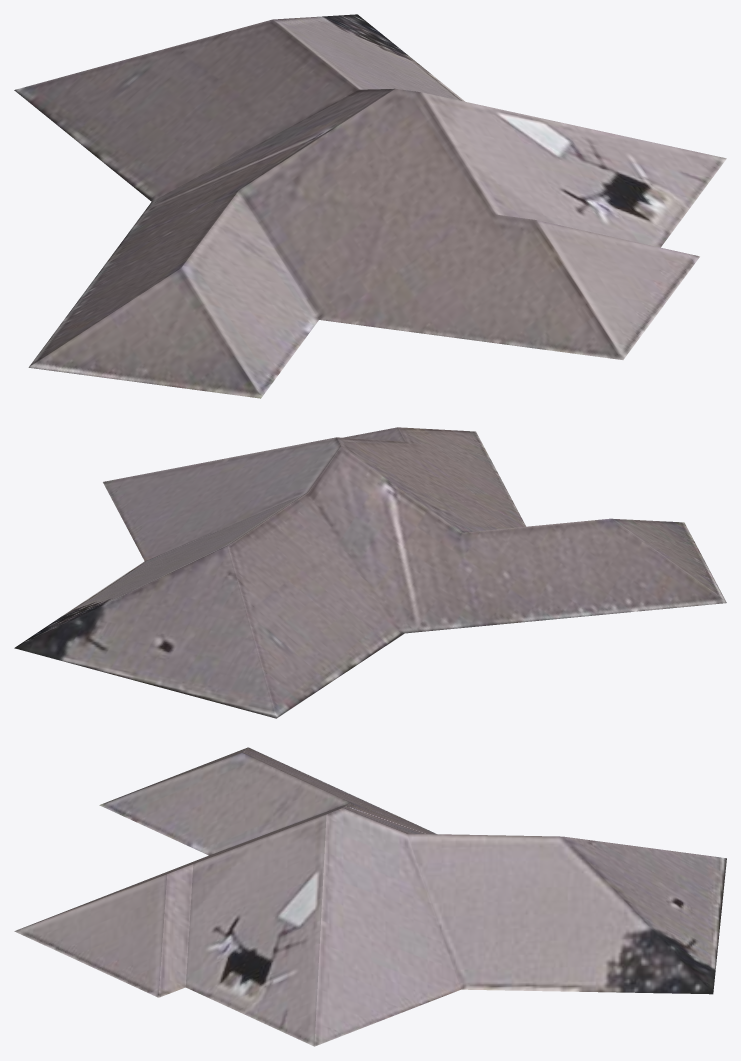
File: BK39_500_014028_0063_roof.obj
3 views of the same model, one above another, from view 1: azimuth 30°, elevation 25°; view 2: azimuth 150°, elevation 25°; view 3: azimuth 270°, elevation 25° (orthographic). The views are drawn at different scales.
Visible parts, largest first — view 1: BK39_500_014028_0063_roof; view 2: BK39_500_014028_0063_roof; view 3: BK39_500_014028_0063_roof.
Part boxes in pixels (x1,y1,x2,y2): BK39_500_014028_0063_roof: (14, 14, 726, 398); BK39_500_014028_0063_roof: (14, 427, 726, 718); BK39_500_014028_0063_roof: (14, 747, 726, 1046).
Bounding box in the file's own units: 404 × 70 × 407.
Materials: 1 (1 with a texture image).
